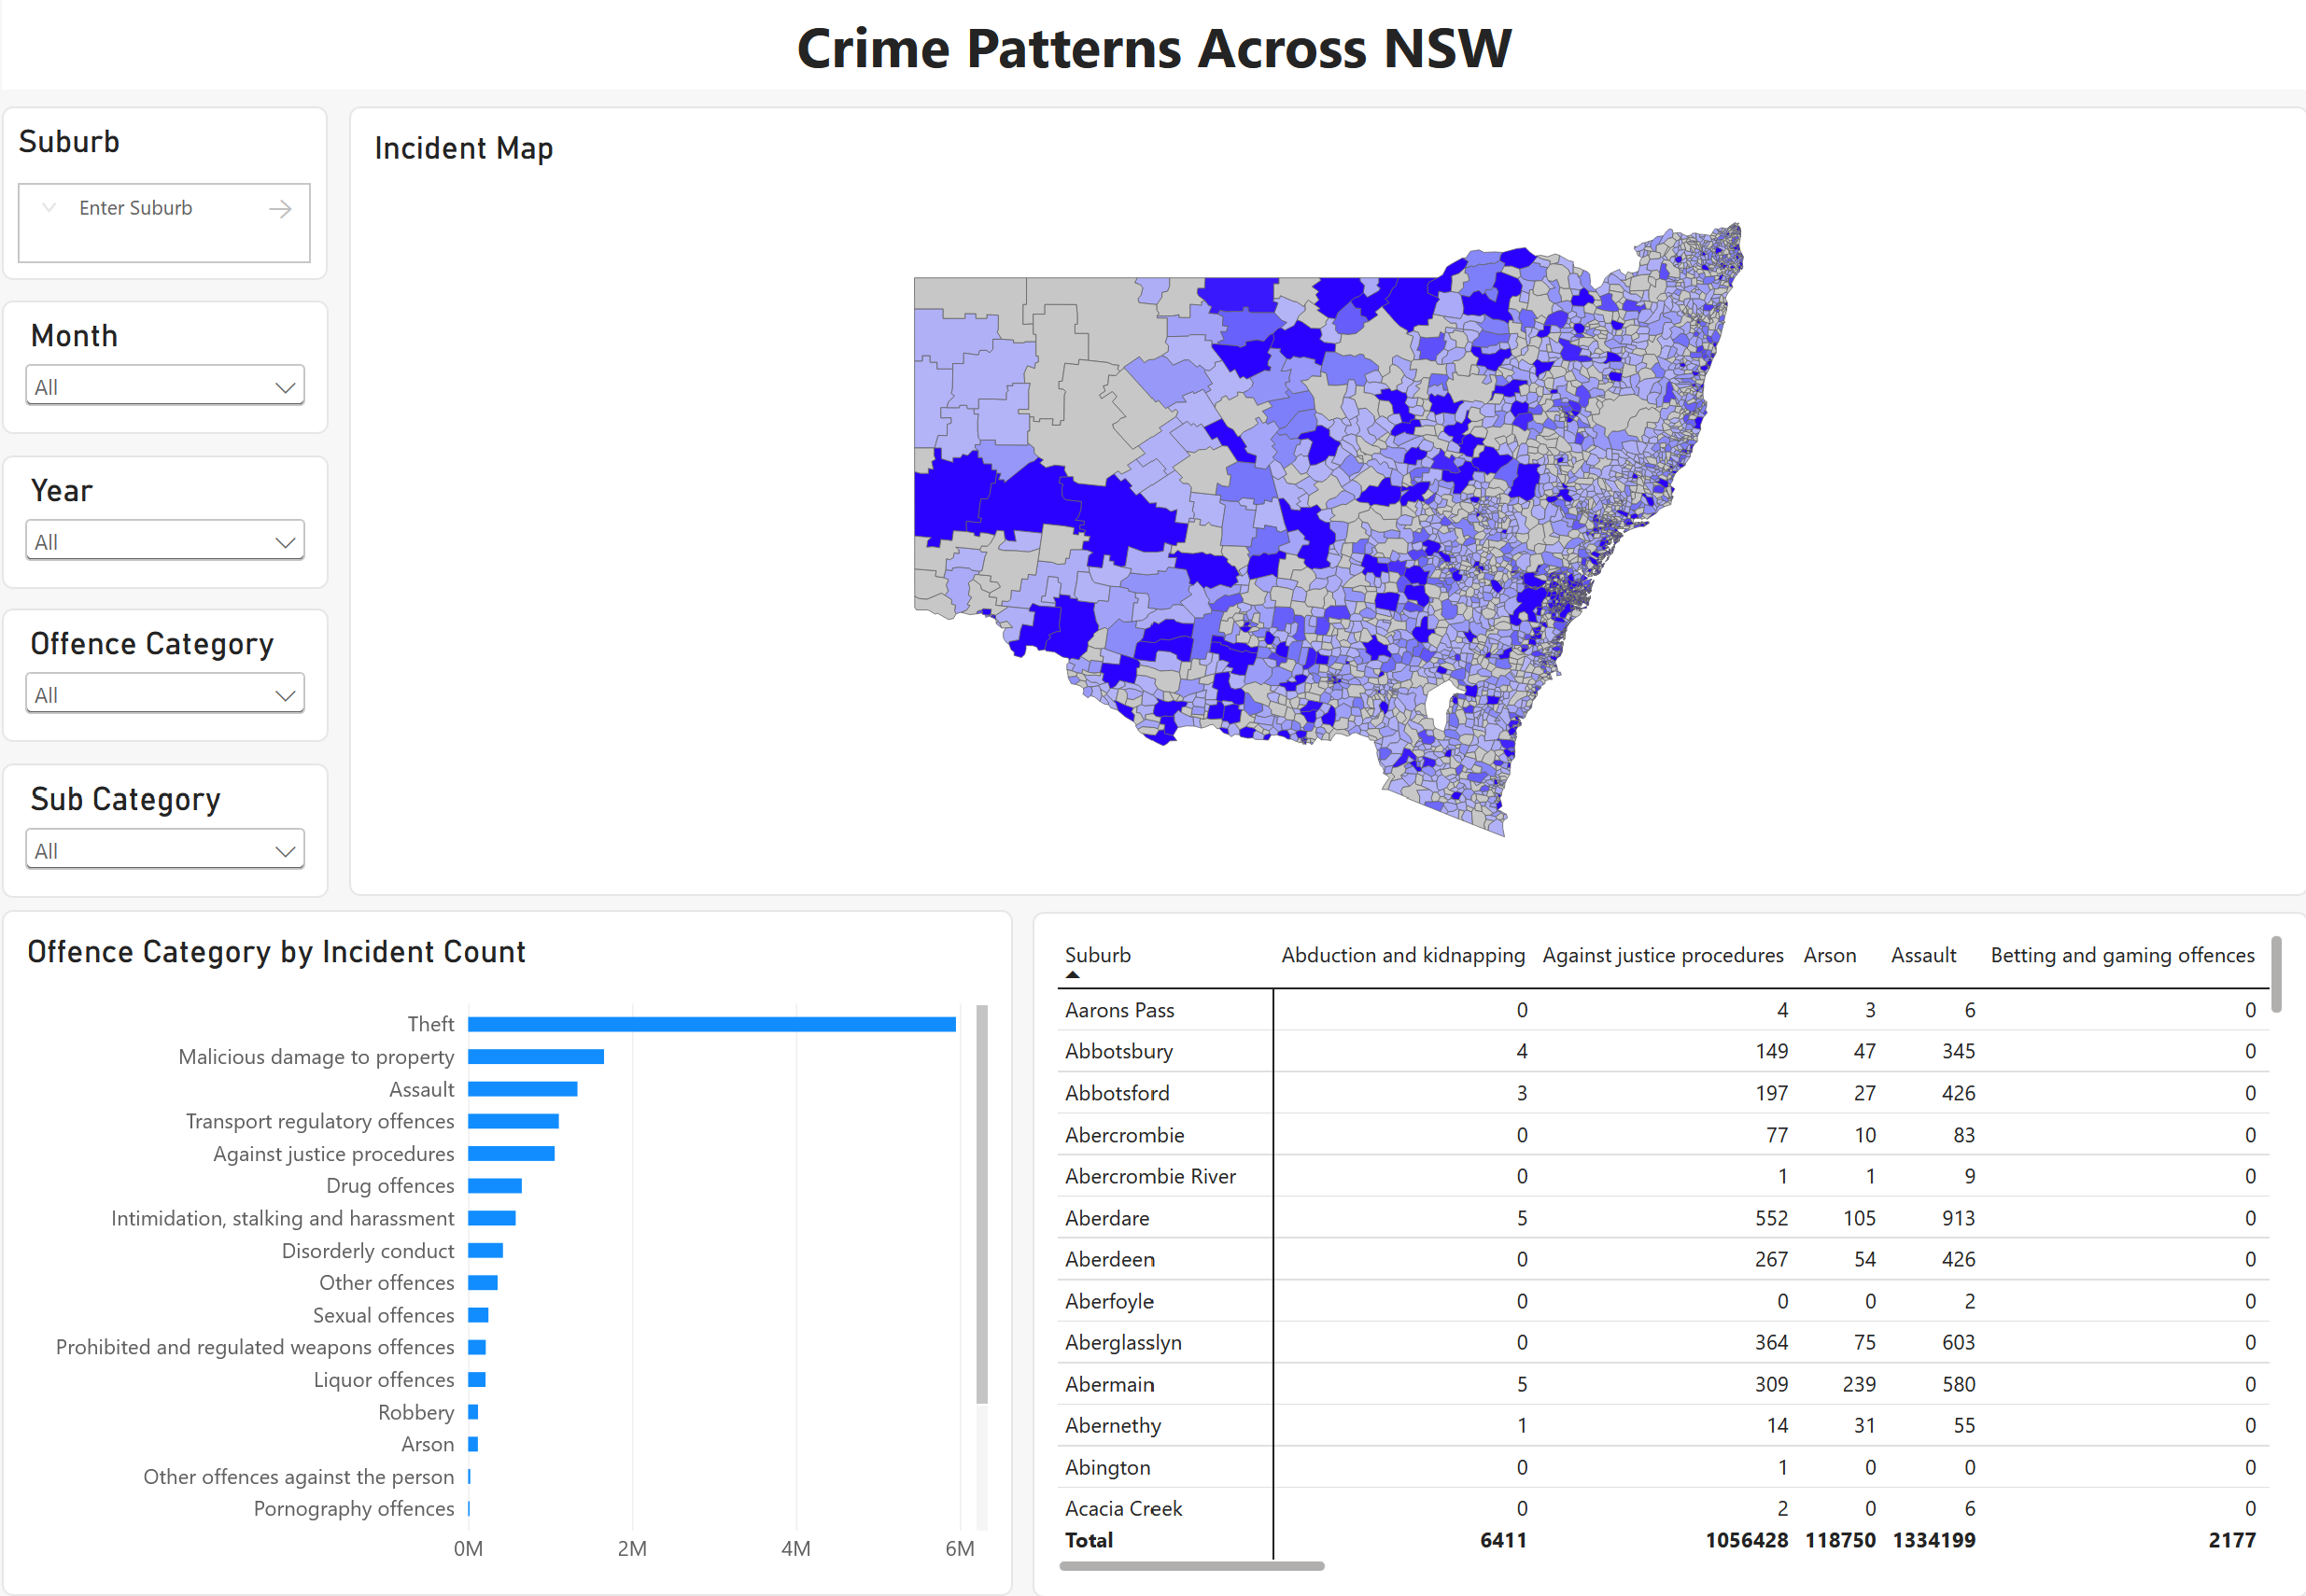

This screenshot's page, from the dashboard's own definition file:
{"tool":"powerbi","page":{"name":"Suburb Analysis","canvas":[1920,1080],"ordinal":1},"visuals":[{"type":"textbox","box":[78.3,0,1552.3,65.5],"z":0},{"type":"slicer","fields":{"Values":["DateTable.Year"]},"box":[78.3,311.3,220,90],"z":1000},{"type":"slicer","fields":{"Values":["suburb_incidents.offence_category"]},"box":[78.3,415.1,220,90],"z":2000},{"type":"slicer","fields":{"Values":["suburb_incidents.subcategory"]},"box":[78.5,518.8,220,90],"z":3000},{"type":"clusteredBarChart","title":"Offence Category by Incident Count","fields":{"Category":["suburb_incidents.offence_category"],"Y":["Sum(suburb_incidents.incident_count)"]},"box":[77.9,617.7,681,462],"z":4000},{"type":"pivotTable","fields":{"Rows":["suburb_incidents.suburb"],"Columns":["suburb_incidents.offence_category"],"Values":["Sum(suburb_incidents.incident_count)"]},"box":[772.2,618.7,858.5,462],"z":5000},{"type":"textSlicer","fields":{"Values":["census.sal_name"]},"box":[78.5,76.9,219.4,116.9],"z":6000},{"type":"shapeMap","title":"Incident Map","fields":{"Category":["census.sal_code"],"Value":["Sum(suburb_incidents.incident_count)"]},"box":[311.7,76.5,1319,531.5],"z":7000},{"type":"slicer","fields":{"Values":["DateTable.Month Name"]},"box":[78.5,207.5,220,90],"z":8000}]}

Visuals, with their boxes on the page's 1920x1080 design canvas (x1, y1, x2, y2). These are canvas units, not pixel positions in the 2306x1596 screenshot, which may show the page scaled, cropped or inside an application window:
textbox: [78, 0, 1631, 66]
slicer - DateTable.Year: [78, 311, 298, 401]
slicer - suburb_incidents.offence_category: [78, 415, 298, 505]
slicer - suburb_incidents.subcategory: [78, 519, 298, 609]
"Offence Category by Incident Count" clusteredBarChart: [78, 618, 759, 1080]
pivotTable - suburb_incidents.suburb x suburb_incidents.offence_category: [772, 619, 1631, 1081]
textSlicer - census.sal_name: [78, 77, 298, 194]
"Incident Map" shapeMap: [312, 76, 1631, 608]
slicer - DateTable.Month Name: [78, 208, 298, 298]
